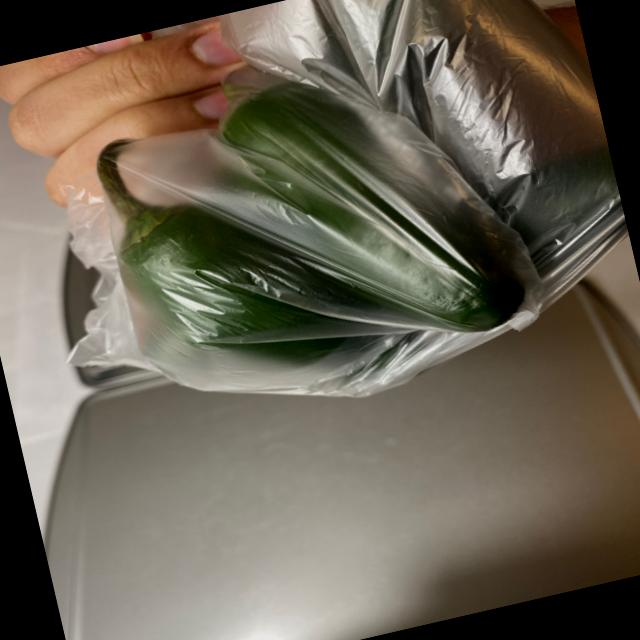chilli: (0, 0, 639, 444)
